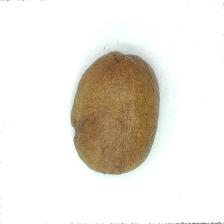NG: (69, 116, 84, 147)
